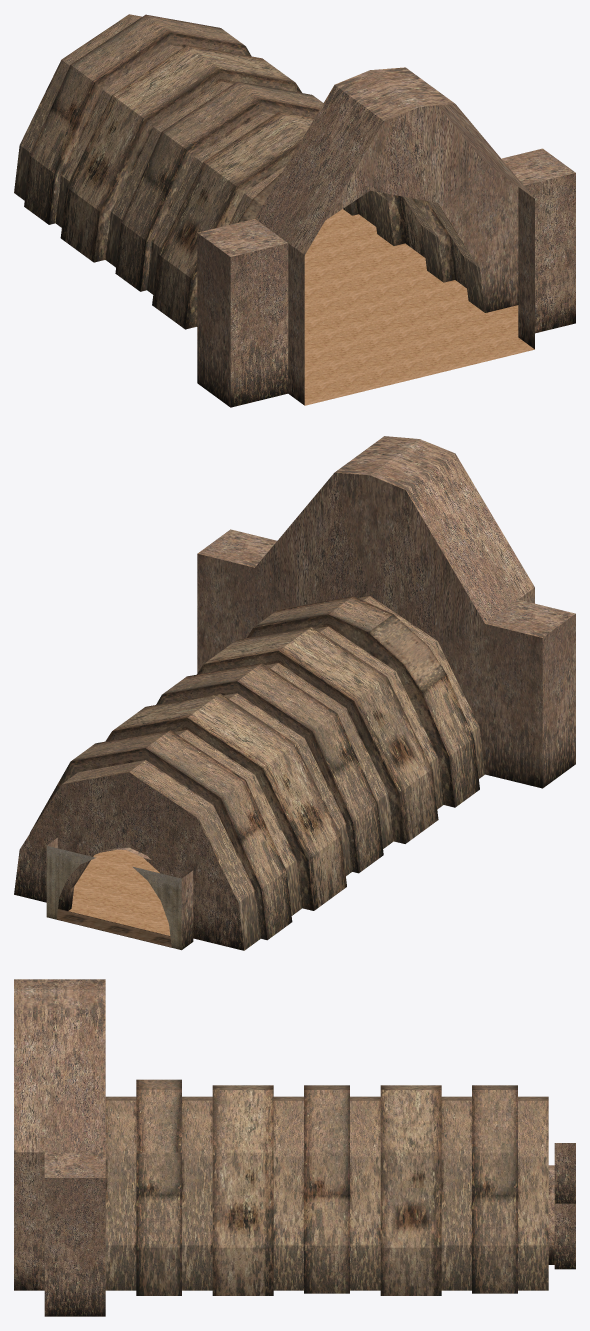
The model's file is thm_tato_jabbas_palace_r1_foyer_mesh_l2.fbx.
3 views of the same model, one above another, from view 1: azimuth 30°, elevation 25°; view 2: azimuth 150°, elevation 25°; view 3: azimuth 270°, elevation 25° (orthographic). The views are drawn at different scales.
Visible parts, largest first — view 1: mesh_node; view 2: mesh_node; view 3: mesh_node.
Boxes of the visible parts, x1,y1,x2,y2 form: mesh_node: (14,14,575,407); mesh_node: (14,436,575,950); mesh_node: (14,979,575,1316).
Bounding box in the file's own units: 24 × 18 × 36.8.
